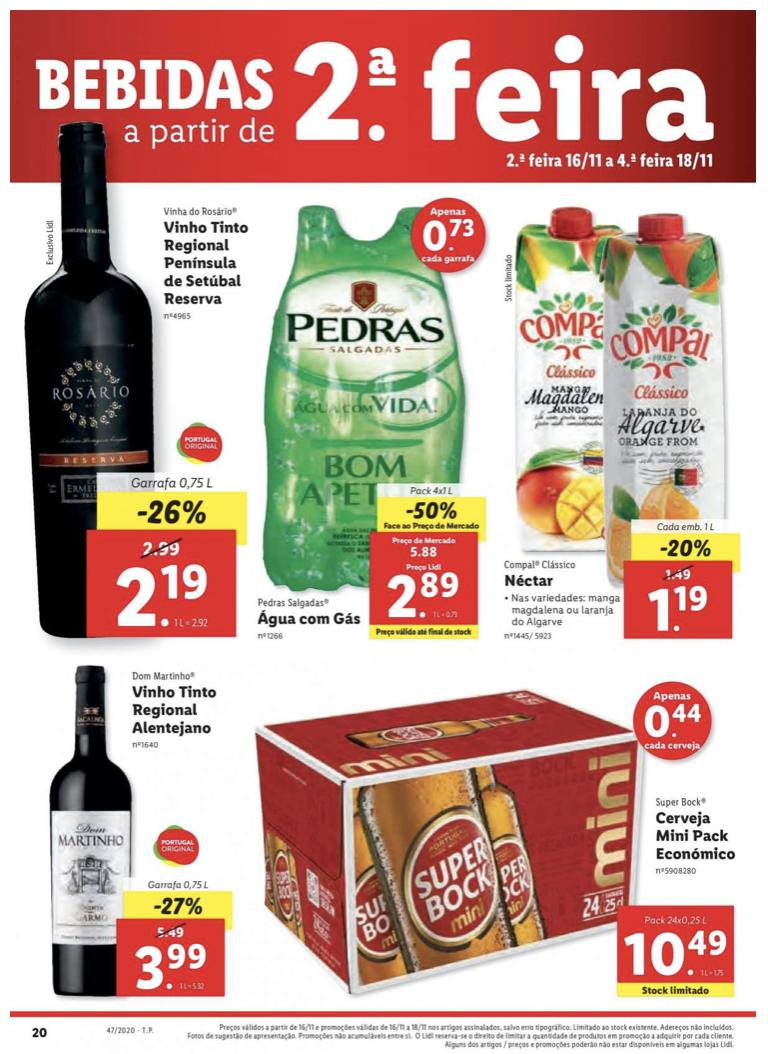name: (156, 216, 250, 310), (128, 681, 222, 739), (650, 810, 742, 863), (256, 606, 363, 631), (503, 572, 563, 589)
price: (87, 559, 237, 636), (616, 906, 737, 983), (368, 558, 482, 623), (620, 580, 735, 640), (113, 940, 228, 997)
product: (241, 670, 748, 1005), (248, 184, 506, 650), (497, 191, 750, 652), (17, 181, 252, 641), (12, 655, 235, 1005)
promotion: (376, 497, 485, 533), (130, 492, 211, 529), (656, 533, 719, 561), (146, 894, 211, 920)
